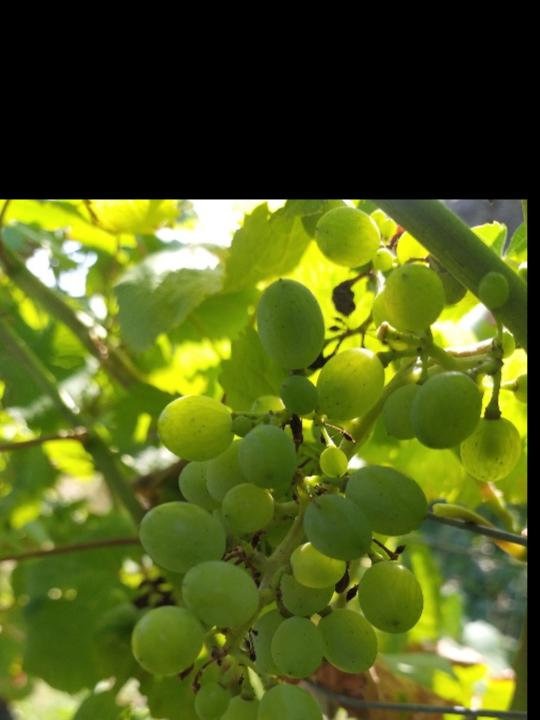grape: (126, 206, 520, 720)
